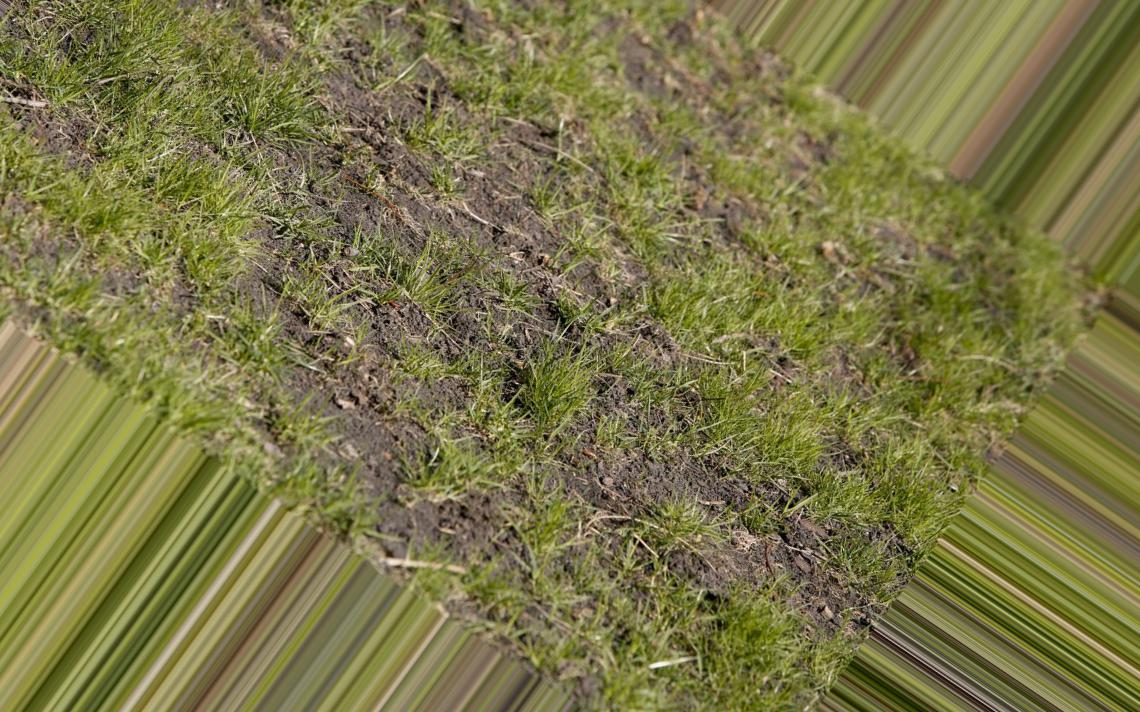patch: (566, 319, 725, 547), (265, 286, 450, 470), (713, 175, 869, 336), (378, 150, 565, 268), (720, 541, 864, 642), (506, 543, 644, 628)
